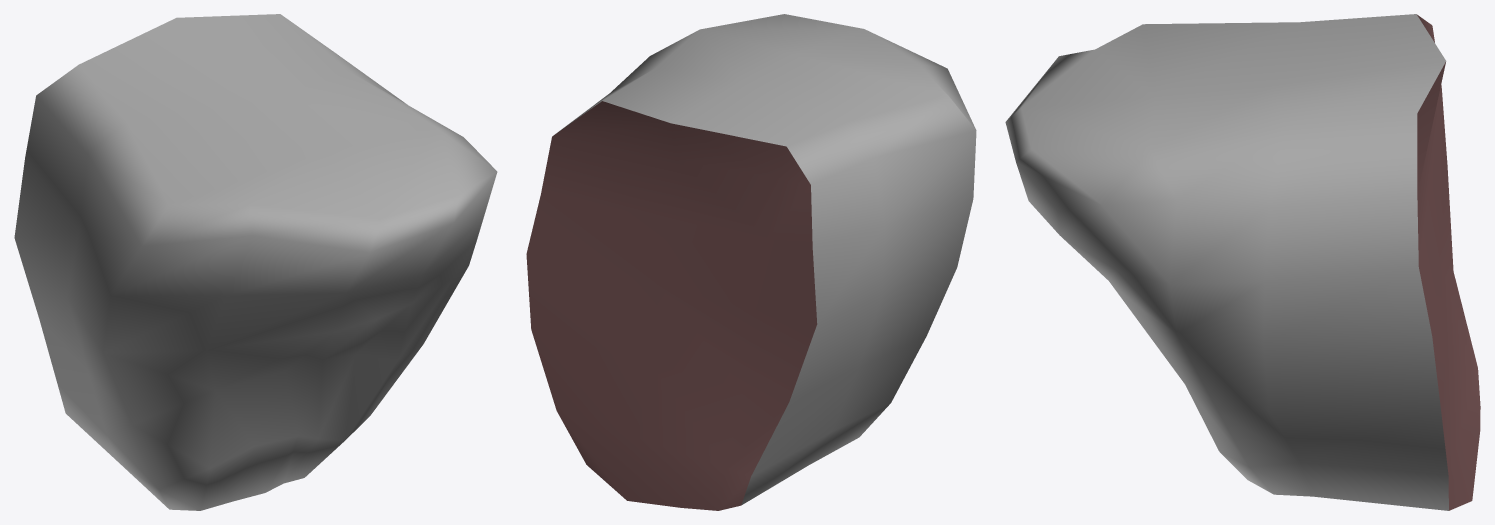
3 views of the same model, side by side, from view 1: azimuth 30°, elevation 25°; view 2: azimuth 150°, elevation 25°; view 3: azimuth 270°, elevation 25° (orthographic). The views are drawn at different scales.
Parts seen in each view (by area): view 1: p4_1; view 2: p4_1; view 3: p4_1.
Part boxes in pixels (x1,y1,x2,y2): p4_1: [14, 14, 497, 510]; p4_1: [526, 14, 976, 510]; p4_1: [1005, 14, 1480, 510].
Bounding box in the file's own units: 6.56 × 7.07 × 7.21.
